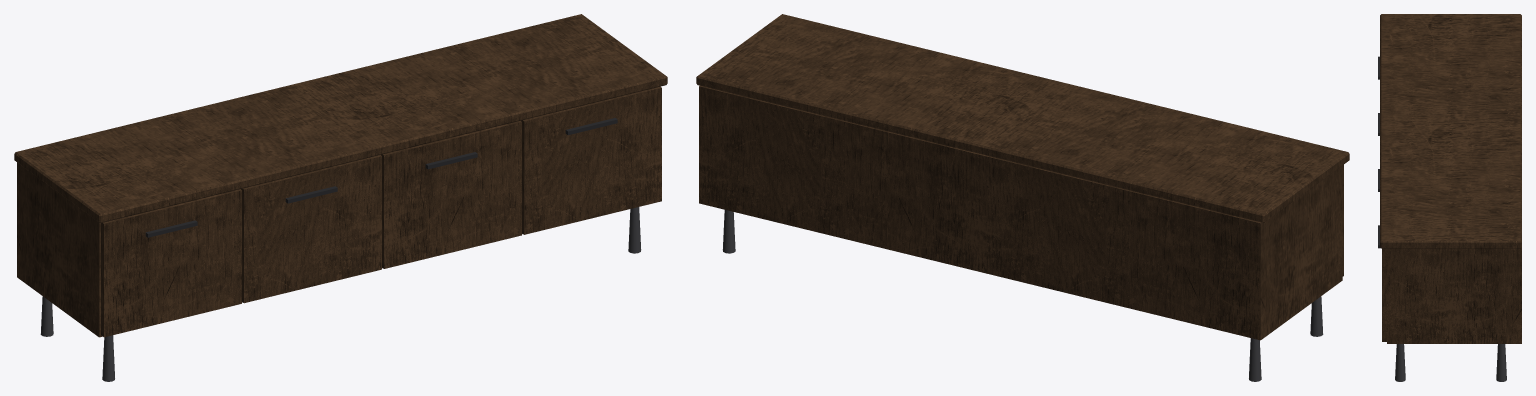
Rendered from media_console.glb.
3 views of the same model, side by side, from view 1: azimuth 30°, elevation 25°; view 2: azimuth 150°, elevation 25°; view 3: azimuth 270°, elevation 25° (orthographic). The views are drawn at different scales.
Parts seen in each view (by area): view 1: tint_wood, metal_dark, black_plastic; view 2: tint_wood, metal_dark; view 3: tint_wood, metal_dark, black_plastic.
Part boxes in pixels (x1,y1,x2,y2): tint_wood: (14,14,667,337); metal_dark: (40,207,641,381); black_plastic: (145,118,617,237); tint_wood: (696,14,1349,340); metal_dark: (722,210,1323,381); tint_wood: (1380,14,1521,343); metal_dark: (1395,344,1506,381); black_plastic: (1378,56,1380,248).
Bounding box in the file's own units: 1.6 × 0.48 × 0.426.
Materials: 3 (1 with a texture image).
